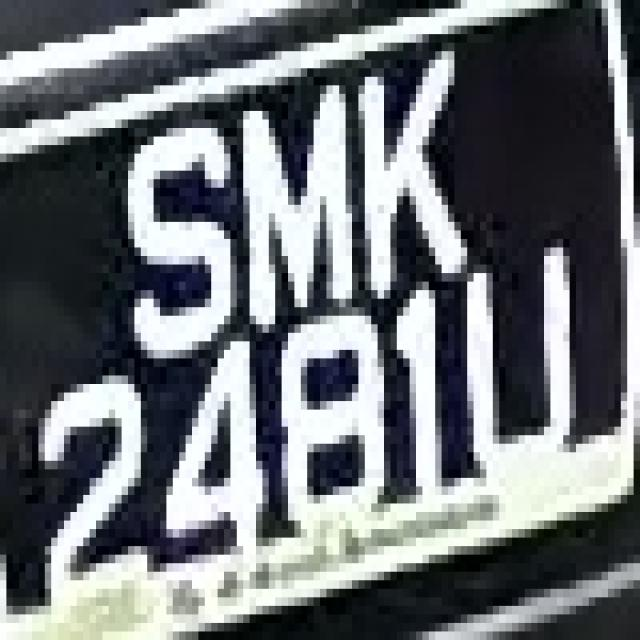1: (390, 264, 461, 554)
2: (13, 358, 154, 614)
4: (141, 350, 288, 563)
8: (250, 307, 384, 521)
K: (339, 51, 480, 290)
M: (218, 68, 352, 307)
S: (96, 145, 237, 367)
U: (448, 239, 589, 503)
